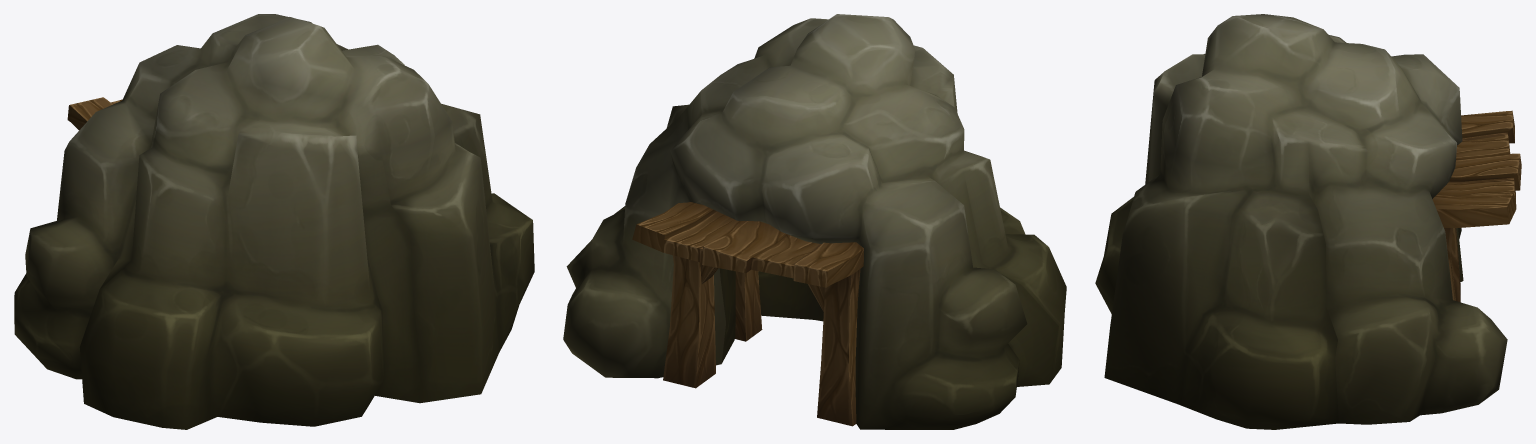
Rendered from Mine.FBX.
The picture shows the model from 3 angles, left to right: view 1: azimuth 30°, elevation 25°; view 2: azimuth 150°, elevation 25°; view 3: azimuth 270°, elevation 25°; orthographic projection. The views are drawn at different scales.
Visible parts, largest first — view 1: Mine; view 2: Mine; view 3: Mine.
Boxes of the visible parts, x1,y1,x2,y2 form: Mine: [14, 14, 534, 429]; Mine: [563, 14, 1066, 429]; Mine: [1095, 14, 1521, 429].
Size of the model in its own units: 4168 by 2879 by 3554.
